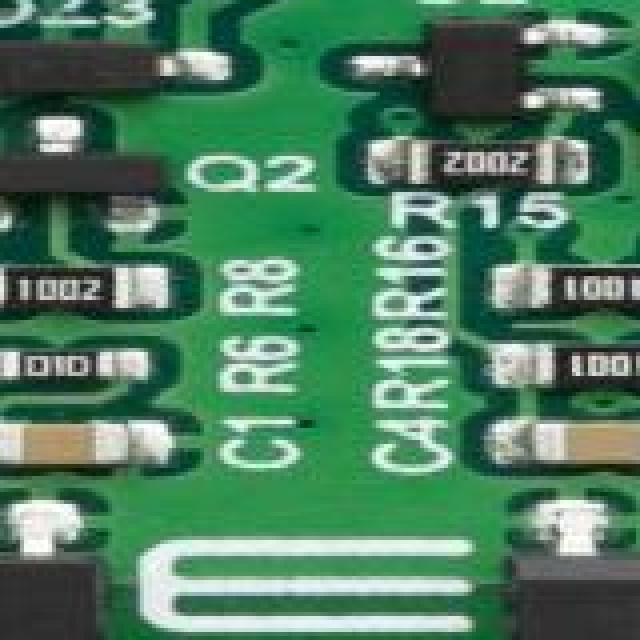IC: (496, 512, 640, 640), (0, 516, 112, 640)
capacitor: (0, 420, 156, 464), (516, 424, 640, 464)
diode: (0, 40, 172, 96)
resistor: (400, 140, 572, 186), (0, 276, 144, 324), (504, 268, 640, 312), (540, 340, 640, 392), (4, 348, 156, 382)
transistor: (352, 12, 632, 126), (0, 112, 172, 236)
